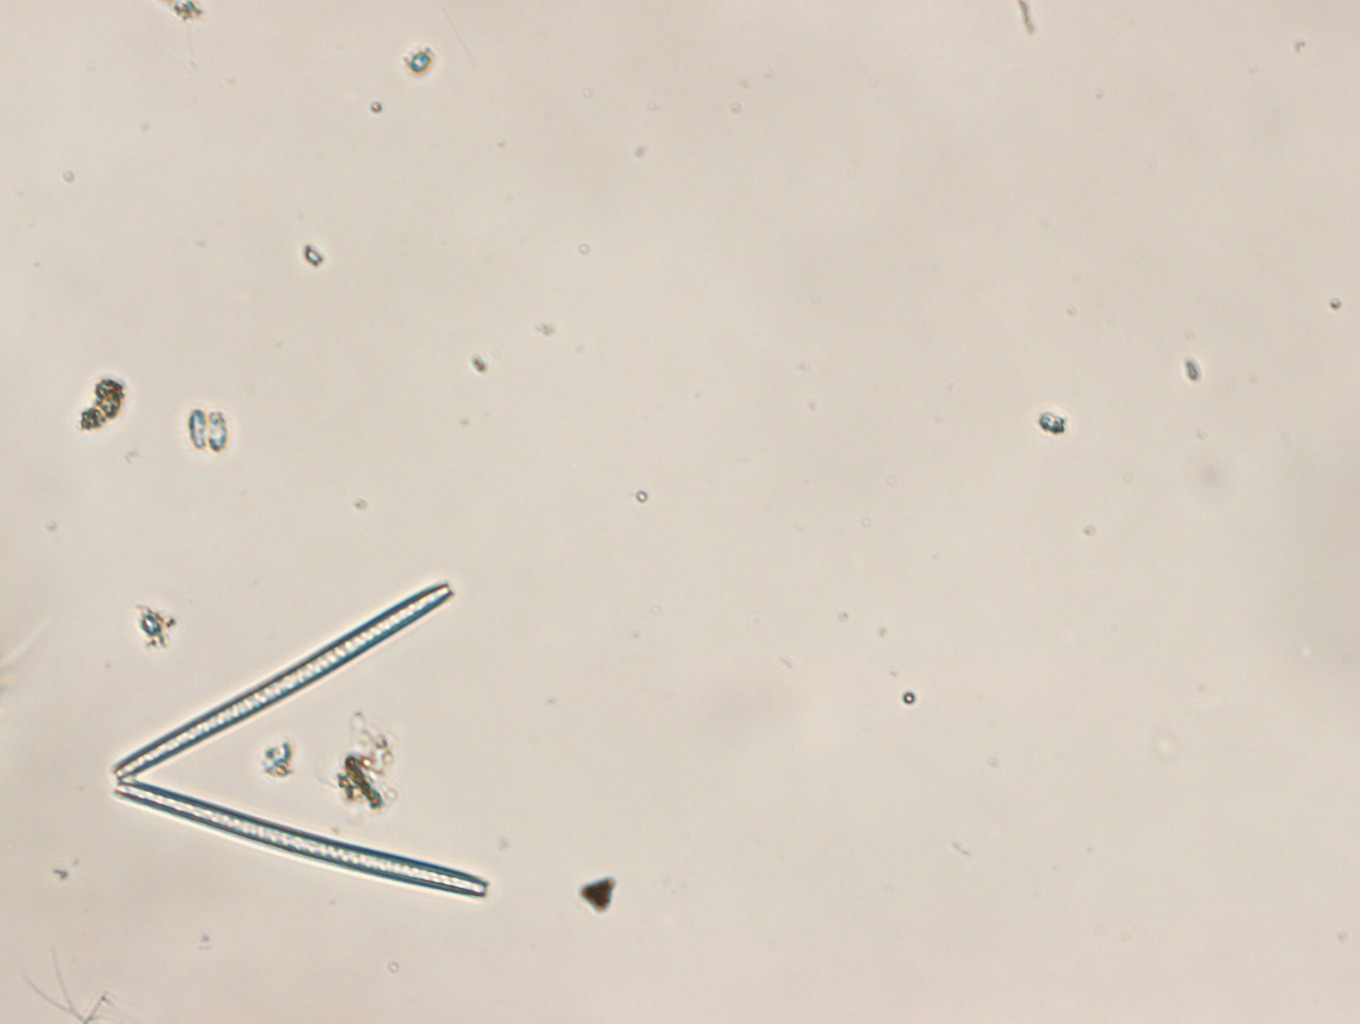thalassionema frauenfeldii: (112, 585, 486, 899)
